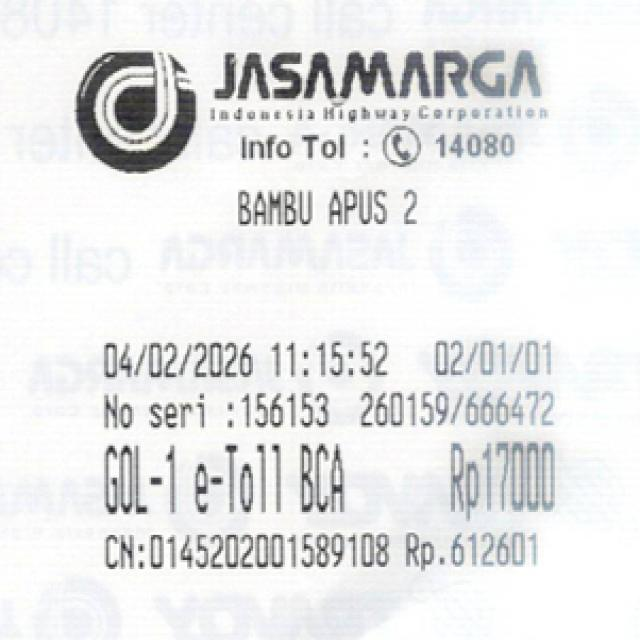date: (94, 332, 393, 386)
store: (208, 44, 560, 120)
total: (438, 433, 564, 518)
